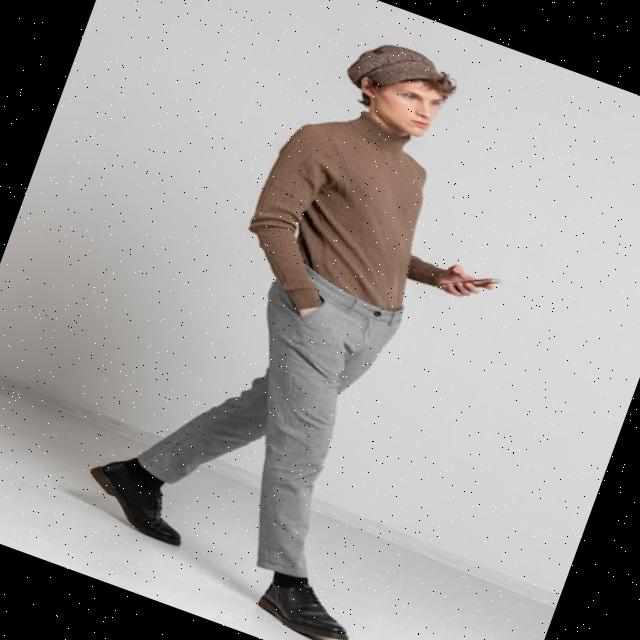Person: (66, 0, 566, 640)
